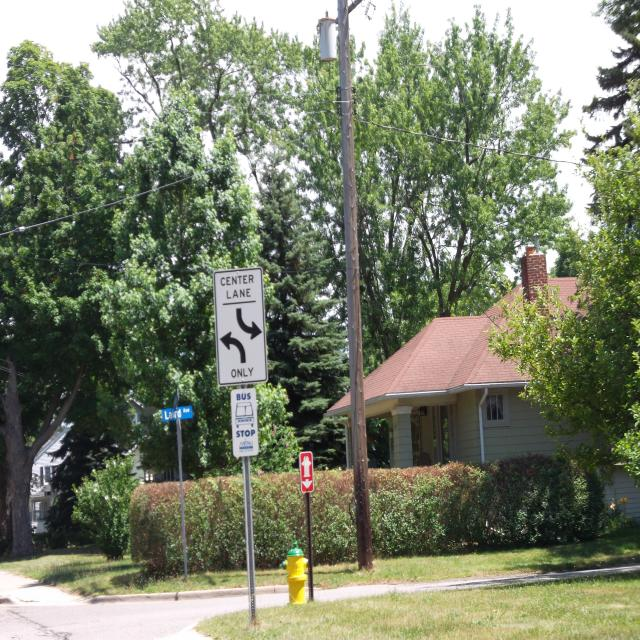regulatory: (211, 262, 269, 388)
